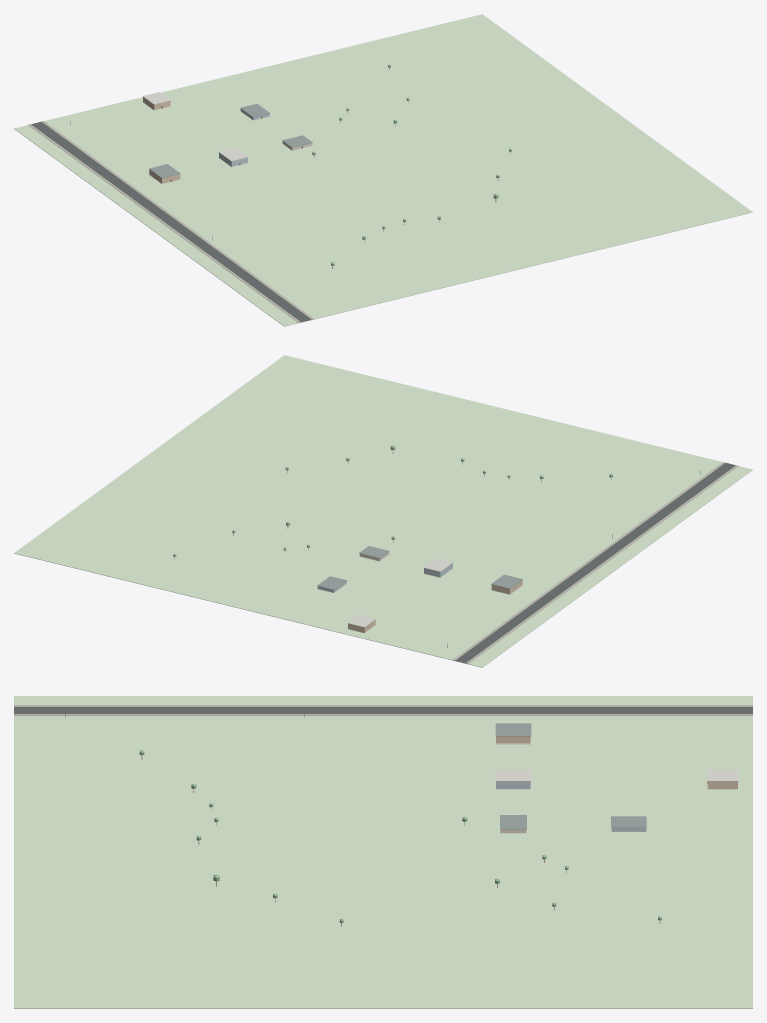
File: chunk_2_6_low.glb
3 renders of one model, top to bottom at view 1: azimuth 30°, elevation 25°; view 2: azimuth 150°, elevation 25°; view 3: azimuth 270°, elevation 25°, orthographic. The views are drawn at different scales.
Visible parts, largest first — view 1: city_grass, city_world_asphalt, city_world_sidewalk, city_roof_slate, city_curb; view 2: city_grass, city_world_asphalt, city_world_sidewalk, city_roof_slate, city_curb; view 3: city_grass, city_world_asphalt, city_world_sidewalk, city_roof_slate, city_roof_tile, city_curb, city_wall_sand.
Part boxes in pixels (x1,y1,x2,y2): city_grass: [14, 14, 752, 326]; city_world_asphalt: [31, 122, 311, 322]; city_world_sidewalk: [28, 121, 313, 322]; city_roof_slate: [149, 103, 312, 178]; city_curb: [31, 121, 311, 321]; city_grass: [14, 355, 752, 667]; city_world_asphalt: [455, 463, 735, 663]; city_world_sidewalk: [453, 462, 738, 663]; city_roof_slate: [317, 546, 522, 589]; city_curb: [455, 462, 735, 662]; city_grass: [14, 696, 752, 1008]; city_world_asphalt: [14, 707, 752, 713]; city_world_sidewalk: [14, 705, 752, 715]; city_roof_slate: [495, 723, 646, 829]; city_roof_tile: [495, 769, 738, 781]; city_curb: [14, 705, 752, 715]; city_wall_sand: [496, 736, 737, 788].
Size of the model in its own units: 512 by 9.53 by 512.
